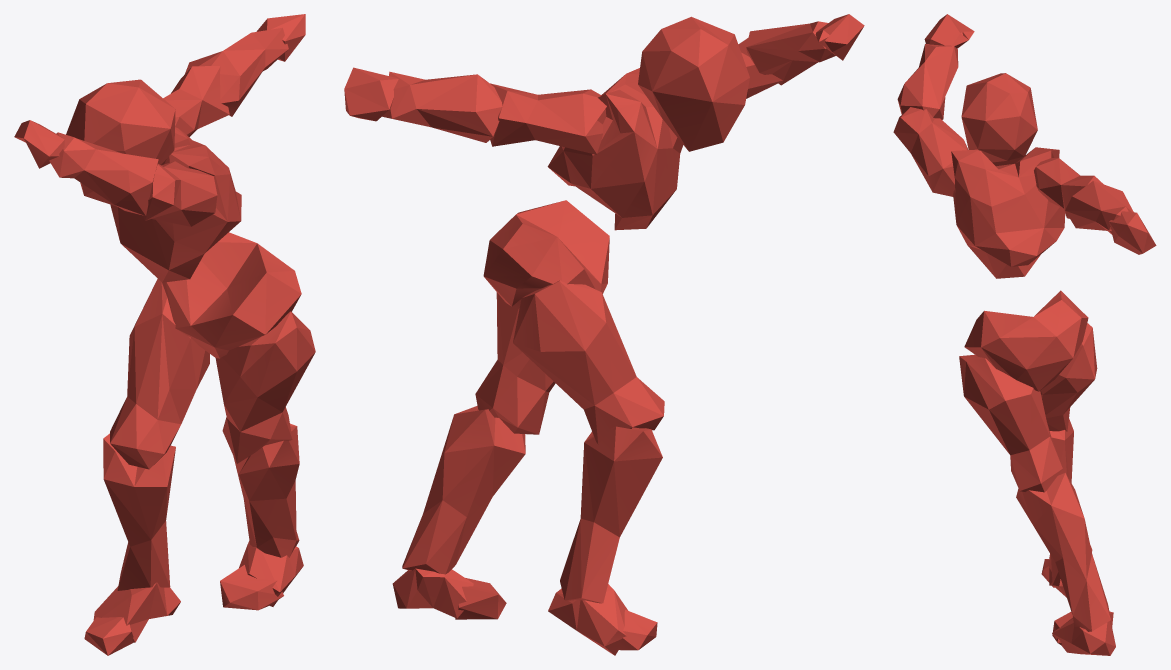
The model's file is 2dancer0190.obj.
3 renders of one model, left to right at view 1: azimuth 30°, elevation 25°; view 2: azimuth 150°, elevation 25°; view 3: azimuth 270°, elevation 25°, orthographic. The views are drawn at different scales.
Parts seen in each view (by area): view 1: Beta_Surface; view 2: Beta_Surface; view 3: Beta_Surface.
Part boxes in pixels (x1,y1,x2,y2): Beta_Surface: (14, 14, 315, 655); Beta_Surface: (344, 14, 864, 655); Beta_Surface: (893, 14, 1156, 655).
Bounding box in the file's own units: 1.16 × 1.73 × 0.8054.
